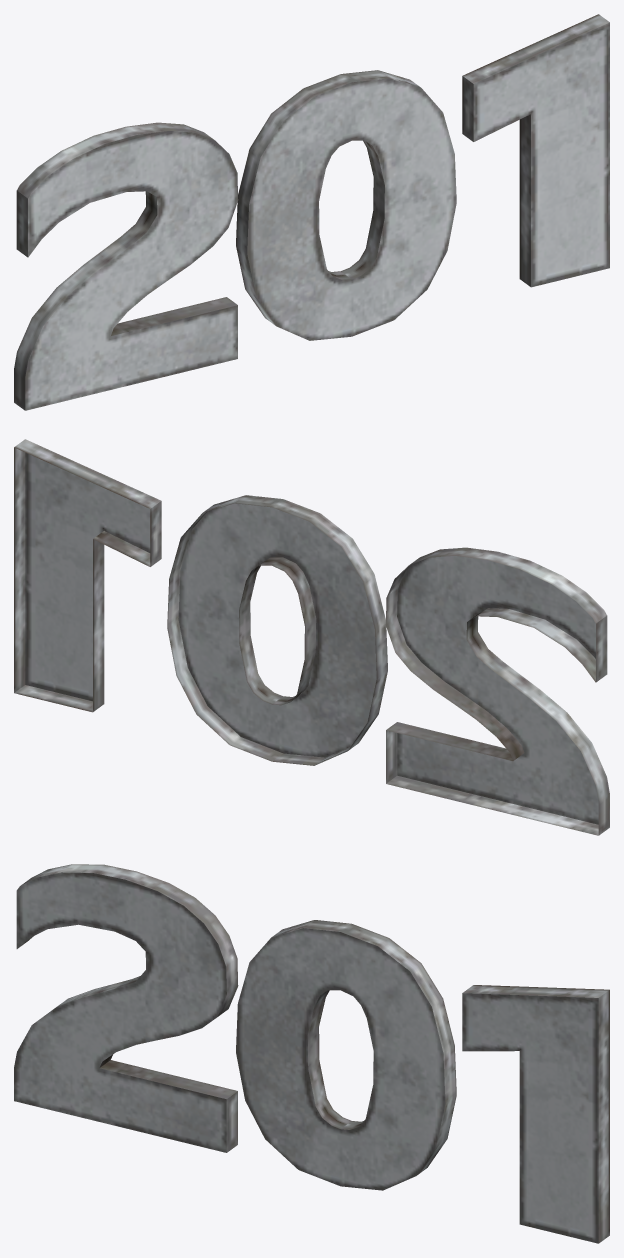
The model's file is categorySign201.FBX.
3 renders of one model, top to bottom at view 1: azimuth 30°, elevation 25°; view 2: azimuth 150°, elevation 25°; view 3: azimuth 330°, elevation 25°, orthographic.
Parts seen in each view (by area): view 1: SM_CategorySign201; view 2: SM_CategorySign201; view 3: SM_CategorySign201.
Part boxes in pixels (x1=…): SM_CategorySign201: x1=14, y1=14, x2=609, y2=410; SM_CategorySign201: x1=14, y1=439, x2=609, y2=835; SM_CategorySign201: x1=14, y1=864, x2=609, y2=1243.
Bounding box in the file's own units: 5.97 × 2.48 × 0.2.
1 material, 1 textured.
